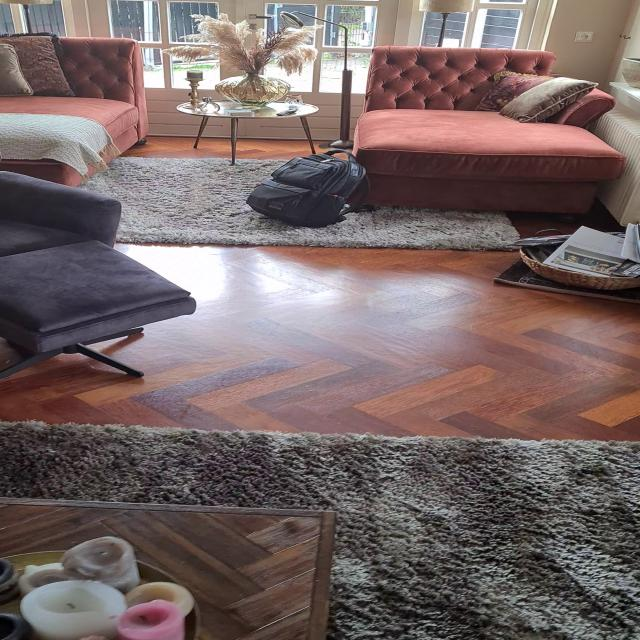backpack: (240, 148, 374, 230)
